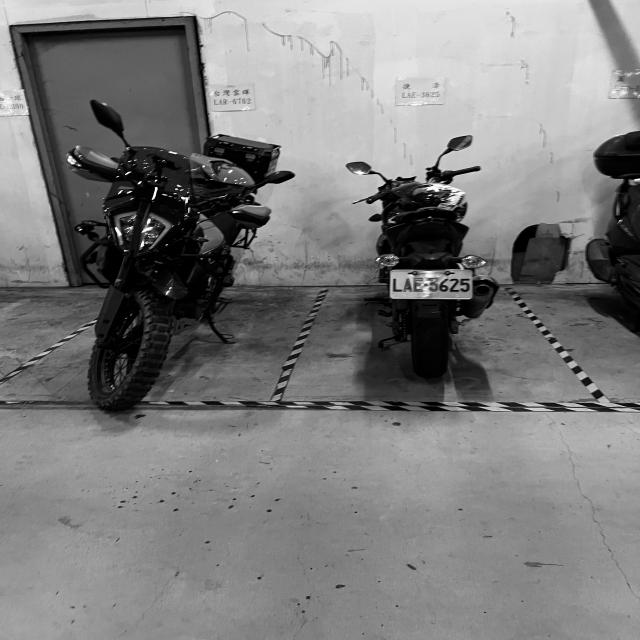-: (423, 282, 428, 286)
2: (450, 278, 459, 291)
3: (428, 277, 437, 292)
5: (459, 278, 471, 292)
6: (439, 277, 448, 291)
A: (403, 278, 413, 292)
E: (413, 277, 424, 292)
L: (392, 277, 403, 292)
plate: (390, 269, 472, 300)
